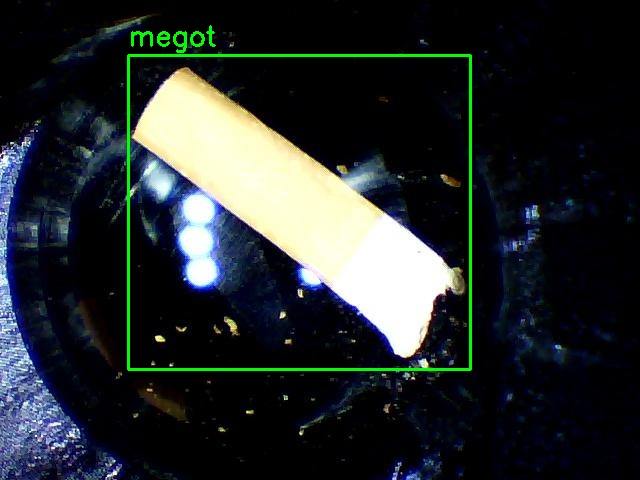megot: (128, 55, 470, 369)
